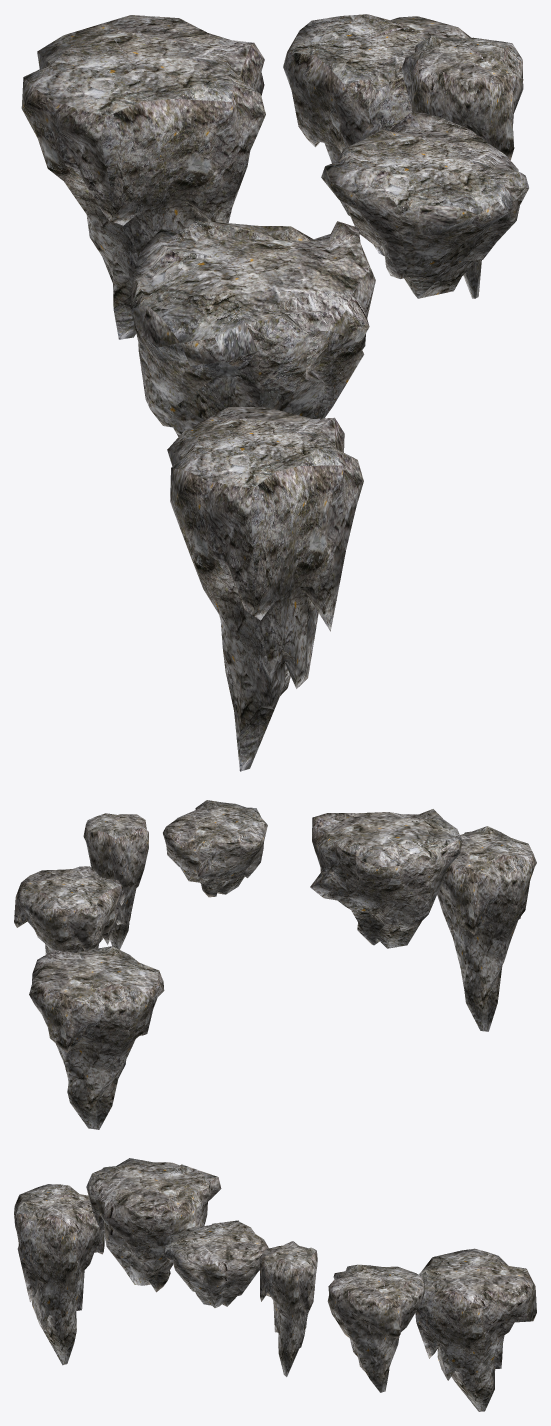
Rendered from rock3.obj.
The picture shows the model from 3 angles, top to bottom: view 1: azimuth 30°, elevation 25°; view 2: azimuth 150°, elevation 25°; view 3: azimuth 270°, elevation 25°; orthographic projection. The views are drawn at different scales.
Visible parts, largest first — view 1: Group16325, Group24535, Group24534, Group24533, Group16326, Group16327; view 2: Group24534, Group16325, Group24535, Group16326, Group24533, Group16327; view 3: Group16325, Group24534, Group24535, Group16326, Group24533, Group16327.
Boxes of the visible parts, x1,y1,x2,y2 form: Group16325: (21, 15, 265, 339); Group24535: (167, 407, 363, 771); Group24534: (131, 220, 375, 436); Group24533: (321, 111, 528, 298); Group16326: (283, 14, 471, 255); Group16327: (401, 36, 523, 298); Group24534: (310, 809, 462, 948); Group16325: (29, 946, 164, 1129); Group24535: (437, 826, 536, 1031); Group16326: (14, 866, 123, 954); Group24533: (163, 800, 267, 897); Group16327: (83, 813, 148, 949); Group16325: (415, 1248, 536, 1411); Group24534: (86, 1158, 221, 1292); Group24535: (14, 1184, 104, 1365); Group16326: (327, 1264, 424, 1392); Group24533: (163, 1220, 268, 1307); Group16327: (259, 1241, 317, 1376).
Size of the model in its own units: 334 by 231 by 492.
